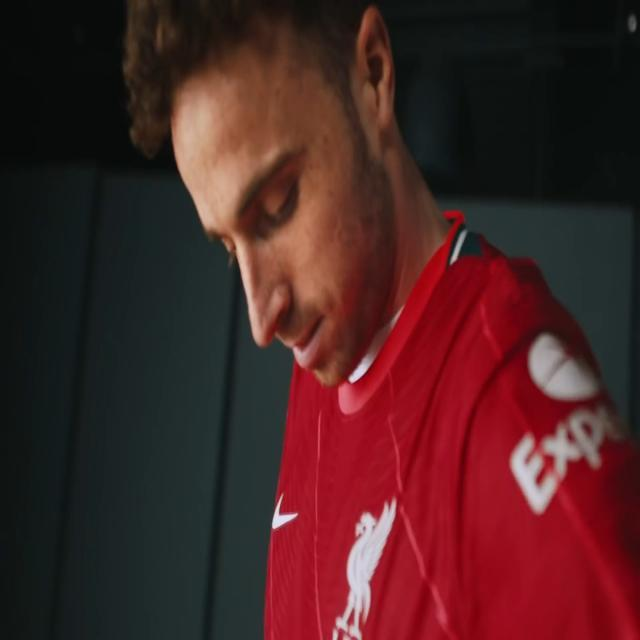Nike: (273, 495, 300, 534)
